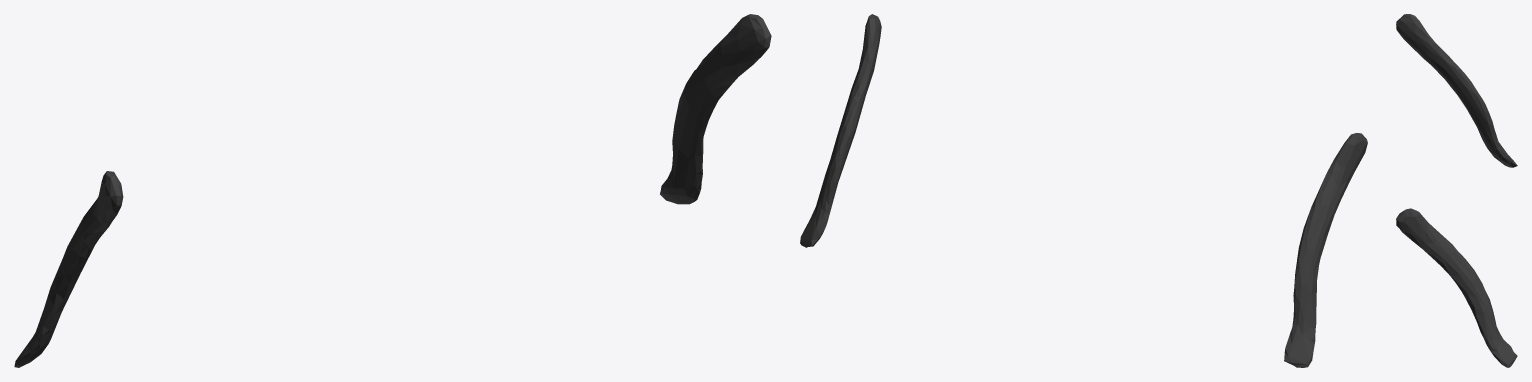
File: m_scutuloaruicularis_superficialis.glb
3 views of the same model, side by side, from view 1: azimuth 30°, elevation 25°; view 2: azimuth 150°, elevation 25°; view 3: azimuth 270°, elevation 25° (orthographic). The views are drawn at different scales.
Visible parts, largest first — view 1: m_scutuloaruicularis_superficialis; view 2: m_scutuloaruicularis_superficialis; view 3: m_scutuloaruicularis_superficialis.
Part boxes in pixels (x1=…): m_scutuloaruicularis_superficialis: x1=14, y1=14, x2=771, y2=367; m_scutuloaruicularis_superficialis: x1=800, y1=14, x2=1367, y2=367; m_scutuloaruicularis_superficialis: x1=1396, y1=14, x2=1517, y2=367.
Bounding box in the file's own units: 0.0022 × 0.00077 × 0.000552.
1 material, 1 textured.
